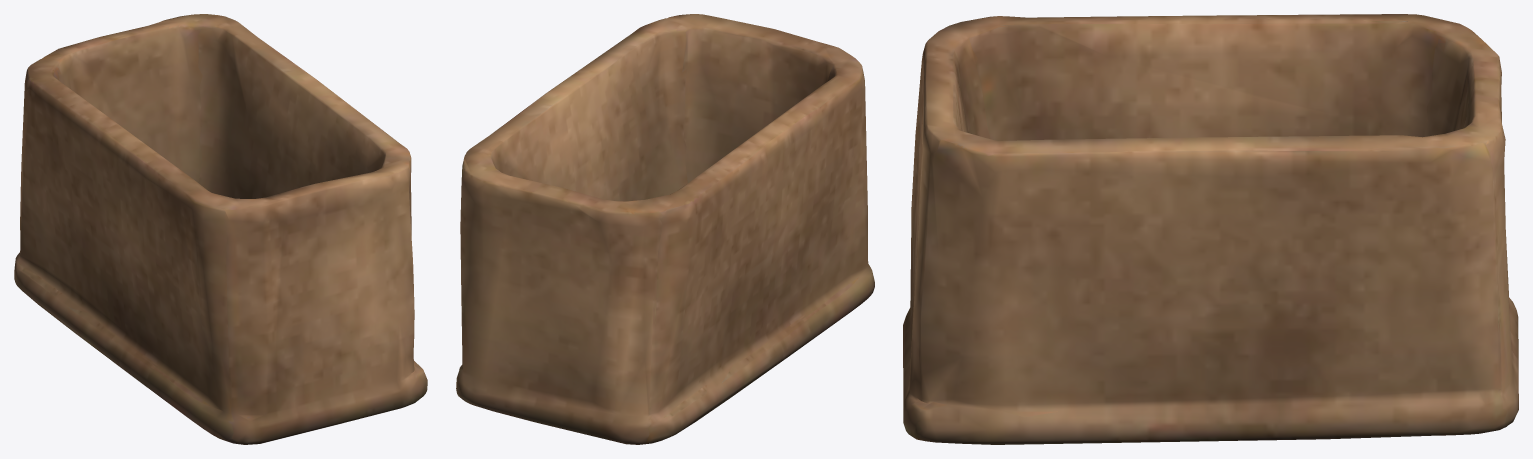
File: ornate-sandstone-trough-v001.glb
3 views of the same model, side by side, from view 1: azimuth 30°, elevation 25°; view 2: azimuth 150°, elevation 25°; view 3: azimuth 270°, elevation 25° (orthographic). The views are drawn at different scales.
Parts seen in each view (by area): view 1: ornate-sandstone-trough; view 2: ornate-sandstone-trough; view 3: ornate-sandstone-trough.
Boxes of the visible parts, x1,y1,x2,y2 form: ornate-sandstone-trough: [14, 14, 427, 444]; ornate-sandstone-trough: [456, 14, 874, 444]; ornate-sandstone-trough: [903, 14, 1518, 444].
Bounding box in the file's own units: 0.4697 × 0.4794 × 0.8655.
Materials: 1 (1 with a texture image).
